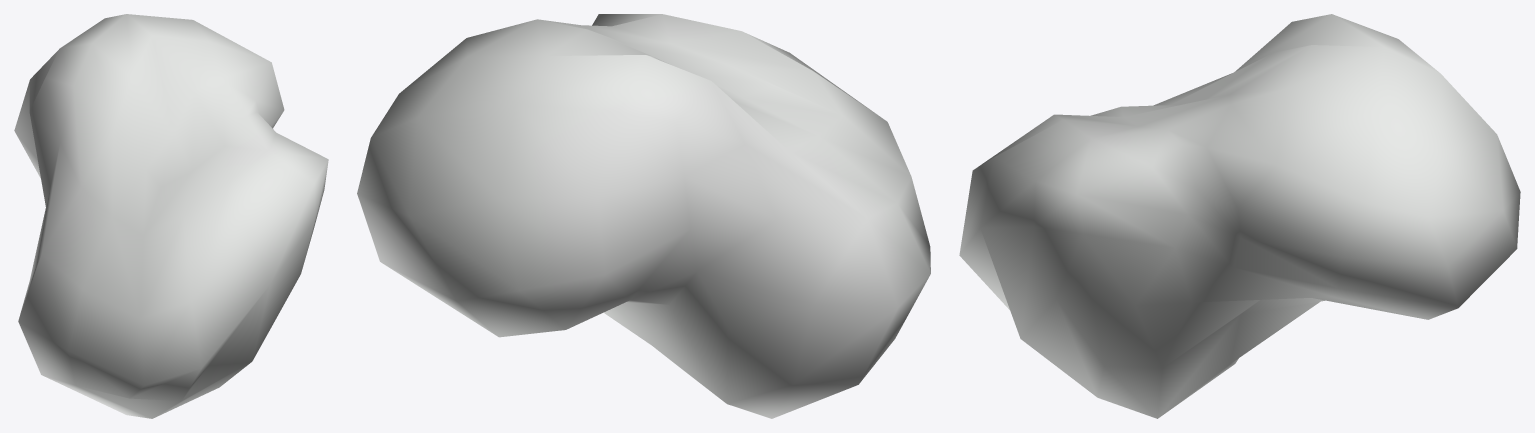
File: Cloud 6.fbx
3 renders of one model, left to right at view 1: azimuth 30°, elevation 25°; view 2: azimuth 150°, elevation 25°; view 3: azimuth 270°, elevation 25°, orthographic. The views are drawn at different scales.
Visible parts, largest first — view 1: Group26634; view 2: Group26634; view 3: Group26634.
Part boxes in pixels (<box>): Group26634: <box>14,14,328,418</box>; Group26634: <box>357,14,930,418</box>; Group26634: <box>959,14,1520,418</box>.
Bounding box in the file's own units: 0.8313 × 0.7912 × 0.9982.
1 material, 1 textured.
